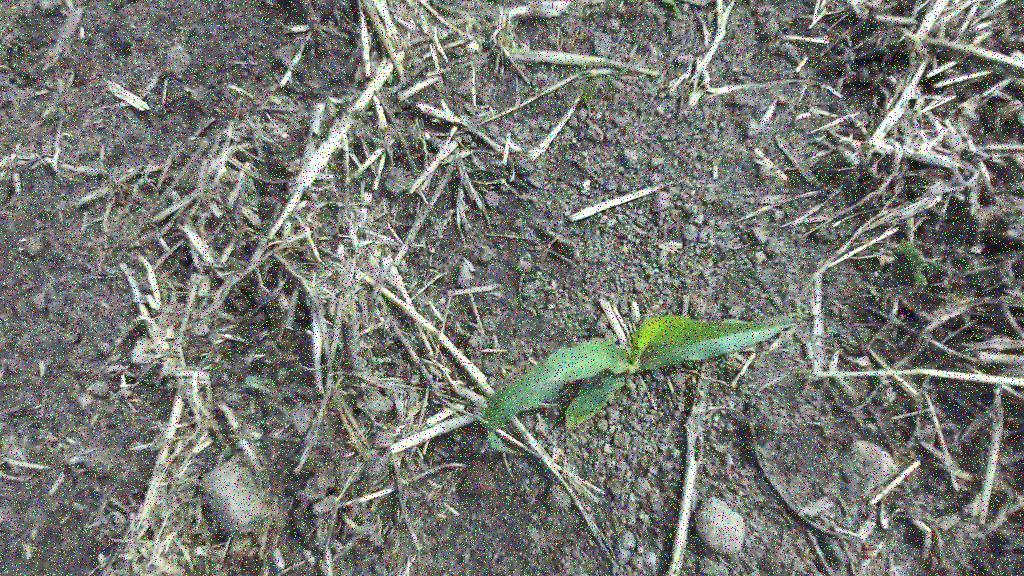BroWeed: (885, 237, 945, 291), (241, 370, 272, 401), (578, 75, 595, 114), (372, 356, 384, 363), (387, 73, 394, 84), (225, 447, 232, 457), (65, 105, 71, 113)
Maize: (465, 244, 809, 468)
